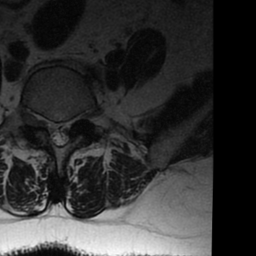CCS_normal: (53, 111, 63, 153)
LFS_stenosis: (73, 108, 82, 135)
LLS_normal: (63, 115, 72, 148)
RFS_normal: (34, 108, 44, 138)
RLS_normal: (43, 111, 53, 147)
